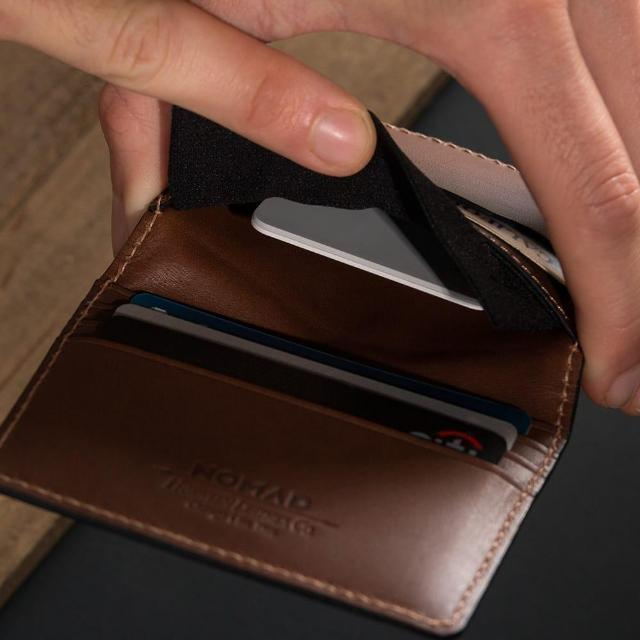wallet: (3, 69, 587, 636)
